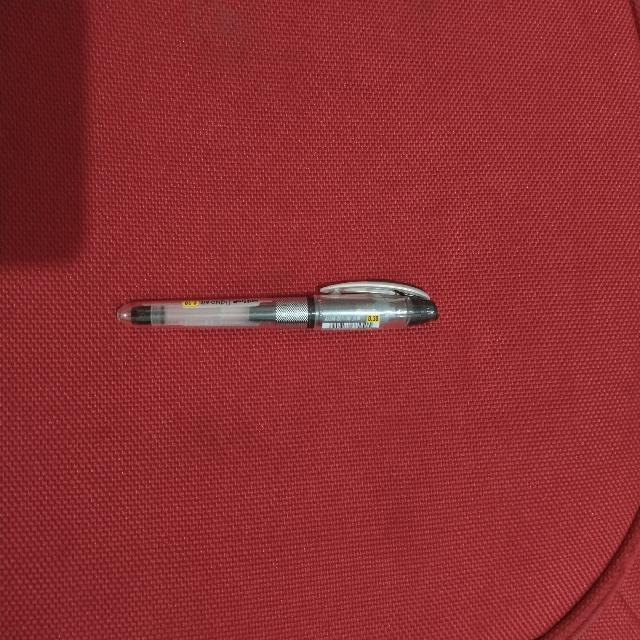pen: (117, 281, 437, 329)
